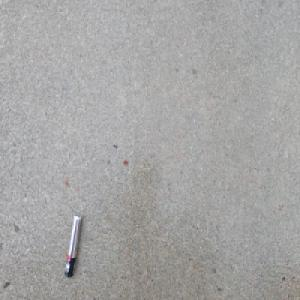Battery: (64, 212, 82, 279)
